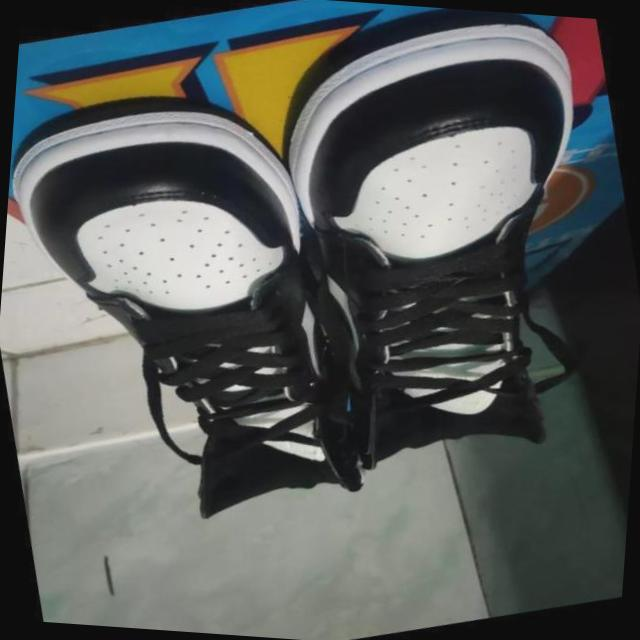nike_fake_jordan: (236, 0, 640, 507), (0, 52, 393, 557)
